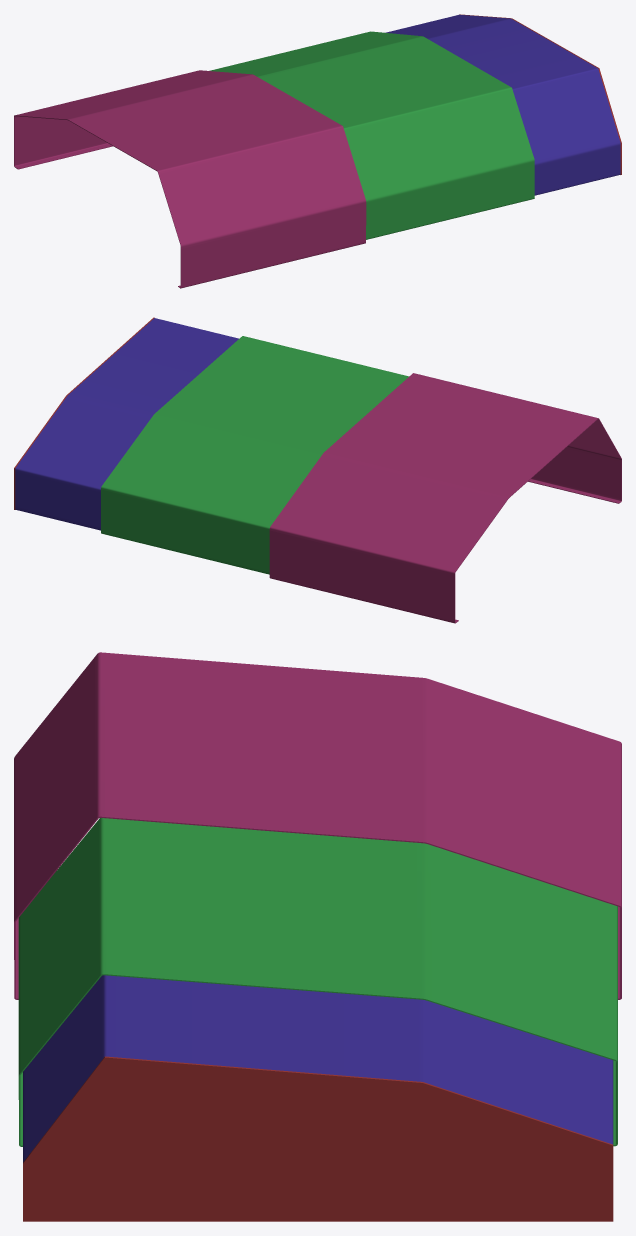
The model's file is Covers_Tex_low.FBX.
3 renders of one model, top to bottom at view 1: azimuth 30°, elevation 25°; view 2: azimuth 150°, elevation 25°; view 3: azimuth 270°, elevation 25°, orthographic. The views are drawn at different scales.
Visible parts, largest first — view 1: cover_machine_end_low, cover_center_low, cover_end_low, cover_endcap_low; view 2: cover_machine_end_low, cover_center_low, cover_end_low; view 3: cover_machine_end_low, cover_center_low, cover_endcap_low, cover_end_low.
Boxes of the visible parts, left/top/right/bottom form: cover_machine_end_low: left=14, top=70, right=366, bottom=288; cover_center_low: left=209, top=31, right=534, bottom=239; cover_end_low: left=385, top=14, right=620, bottom=195; cover_endcap_low: left=459, top=14, right=621, bottom=174; cover_machine_end_low: left=269, top=373, right=621, bottom=623; cover_center_low: left=101, top=336, right=408, bottom=574; cover_end_low: left=15, top=318, right=238, bottom=530; cover_machine_end_low: left=14, top=652, right=621, bottom=999; cover_center_low: left=18, top=818, right=617, bottom=1146; cover_endcap_low: left=23, top=1056, right=613, bottom=1221; cover_end_low: left=23, top=975, right=613, bottom=1162.
Size of the model in its own units: 74.6 by 16.19 by 48.71.
